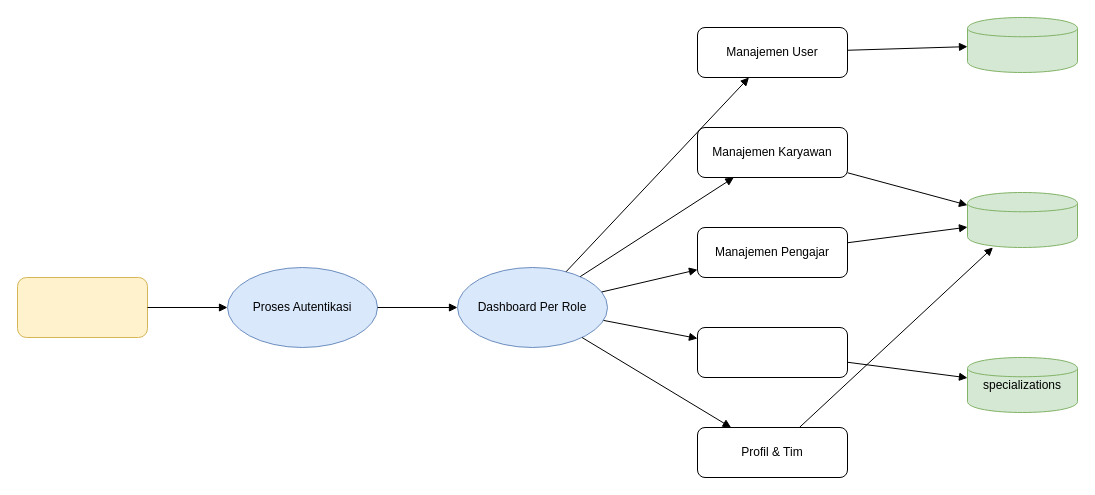
Image size: 1095x495. Some labels were removed from this diagram. The shapes that lost their labels are listed below. From the top down, each one's centre as x and y in pixels, then its label:
At (x=1022, y=44): "users".
At (x=1022, y=220): "employees".
At (x=82, y=307): "User Login".
At (x=772, y=352): "Manajemen Spesialisasi".
